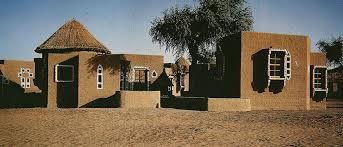Mud House: (2, 28, 163, 115), (183, 25, 326, 118)
